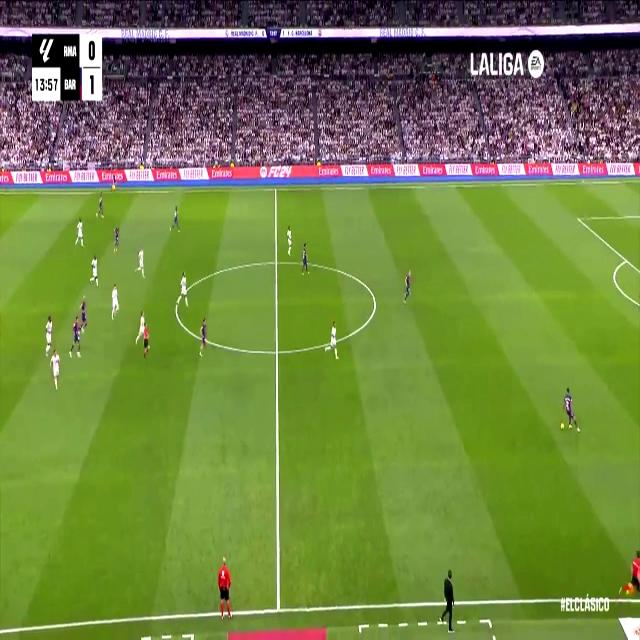bigarea_top_inner: (575, 212, 581, 224)
halfcircle_bottom: (272, 339, 282, 363)
halfcircle_top: (271, 251, 281, 272)
midline_bottom_intersection: (270, 592, 286, 622)
midline_top_intersection: (273, 182, 279, 196)
top_arc_area_intersection: (622, 252, 630, 266)
